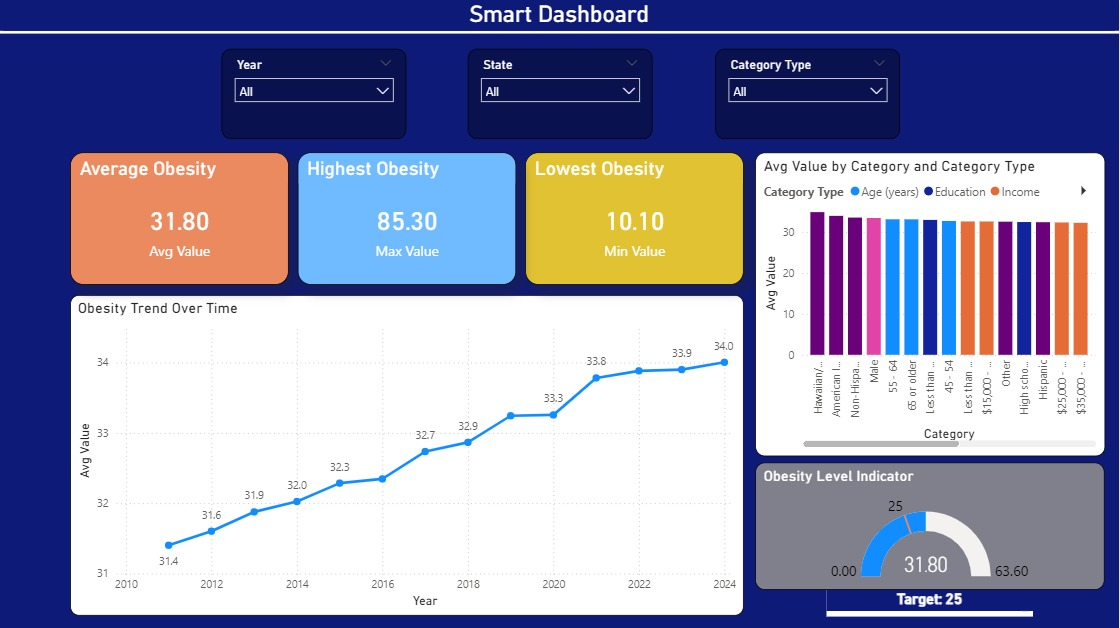

What the dashboard file says about the page in this screenshot:
{"tool":"powerbi","page":{"name":"Smart Dashboard","canvas":[1280,720],"ordinal":3},"visuals":[{"type":"textbox","title":"Smart Dashboard","box":[0,0,1280,38.5],"z":0},{"type":"slicer","fields":{"Values":["HealthData.Year"]},"box":[254.6,56,211.2,103.5],"z":1000},{"type":"slicer","fields":{"Values":["HealthData.State"]},"box":[535.8,56,211.2,103.5],"z":2000},{"type":"slicer","fields":{"Values":["HealthData.Category Type"]},"box":[818.4,56,211.2,103.5],"z":3000},{"type":"lineChart","title":"Obesity Trend Over Time","fields":{"Category":["HealthData.Year"],"Y":["HealthData.Avg Value"]},"box":[81,337.6,769.8,366.4],"z":4000},{"type":"decompositionTreeVisual","title":"Factors Affecting Obesity","fields":{"Analyze":["HealthData.Avg Value"],"ExplainBy":["HealthData.Category Type","HealthData.State"]},"box":[863.1,174.3,399.3,344.4],"z":5000},{"type":"card","title":"Average Obesity ","fields":{"Values":["HealthData.Avg Value"]},"box":[81,174.3,249.7,150.9],"z":6000},{"type":"card","title":"Lowest Obesity","fields":{"Values":["HealthData.Min Value"]},"box":[601,174.3,249.7,150.9],"z":7000},{"type":"card","title":"Highest Obesity","fields":{"Values":["HealthData.Max Value"]},"box":[341.7,174.3,249.7,150.9],"z":8000},{"type":"gauge","title":"Obesity Level Indicator","fields":{"Y":["HealthData.Avg Value"],"TargetValue":["HealthData.Target Value"]},"box":[864.5,528.3,399.3,145.5],"z":9000},{"type":"textbox","title":"Target: 25","box":[945.5,673.8,236,30.2],"z":10000}]}

Visuals, with their boxes in screenshot pixels (x1, y1, x2, y2), scaled from the page's 1280x720 canvas onto the 1120x628 screenshot:
"Smart Dashboard" textbox: (0, 0, 1119, 34)
slicer - HealthData.Year: (223, 49, 408, 139)
slicer - HealthData.State: (469, 49, 654, 139)
slicer - HealthData.Category Type: (716, 49, 901, 139)
"Obesity Trend Over Time" lineChart: (71, 294, 744, 614)
"Factors Affecting Obesity" decompositionTreeVisual: (755, 152, 1105, 452)
"Average Obesity " card: (71, 152, 289, 284)
"Lowest Obesity" card: (526, 152, 744, 284)
"Highest Obesity" card: (299, 152, 517, 284)
"Obesity Level Indicator" gauge: (756, 461, 1106, 588)
"Target: 25" textbox: (827, 588, 1034, 614)
